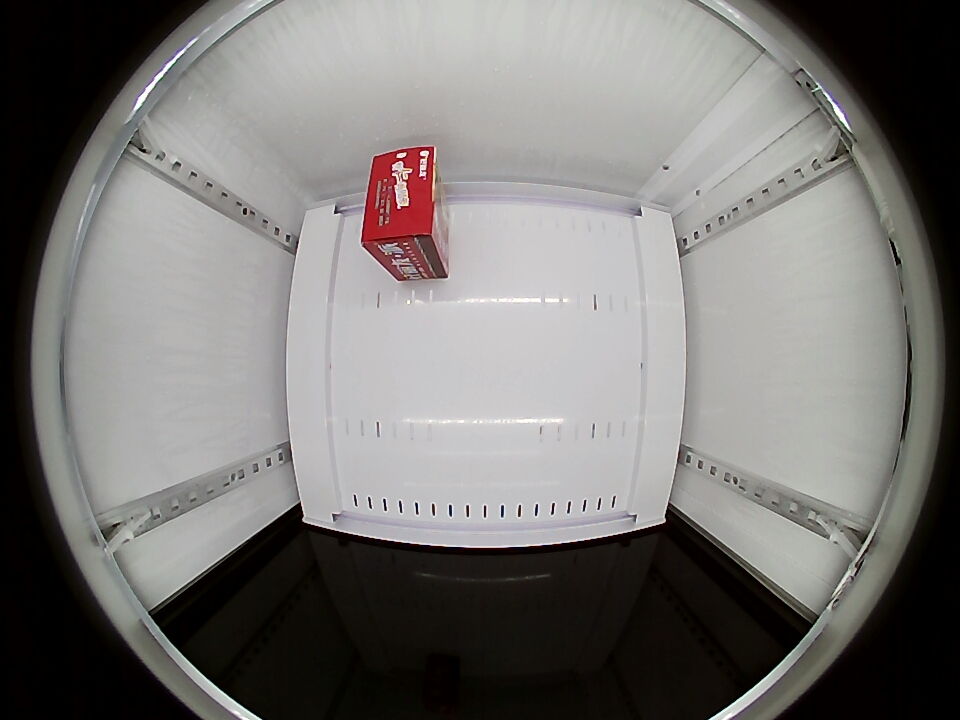haoliyou: (361, 145, 442, 264)
